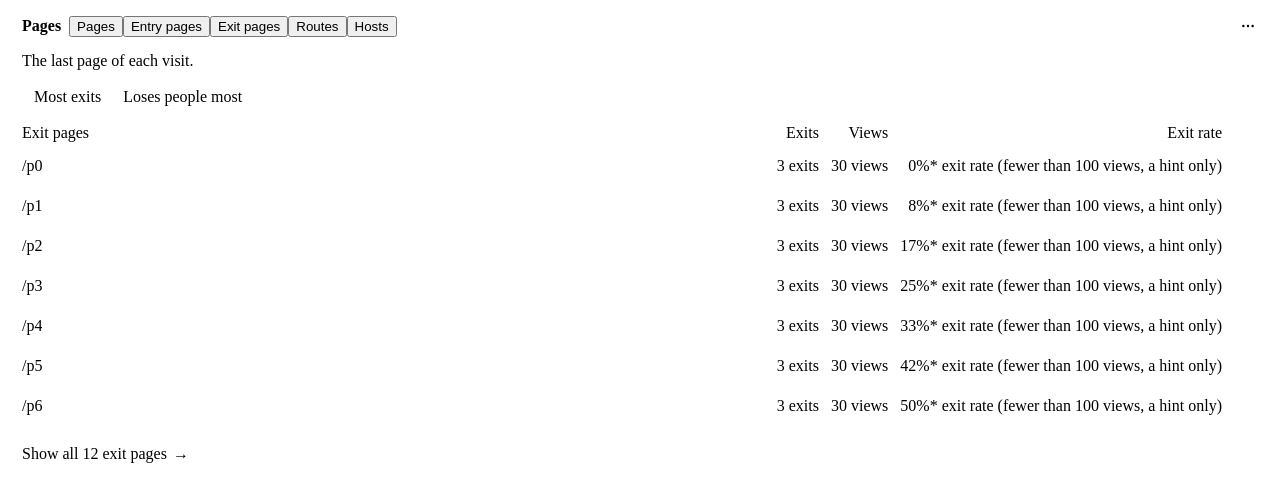
Test case: Panel › keeps all rows when the exit tab sorts by "Loses people most"
The image size is (1271, 487).
Expected: the button "/p0" is shown, [22, 157, 89, 175]
Click the button "Loses people most".
click(183, 97)  # box [113, 84, 252, 110]
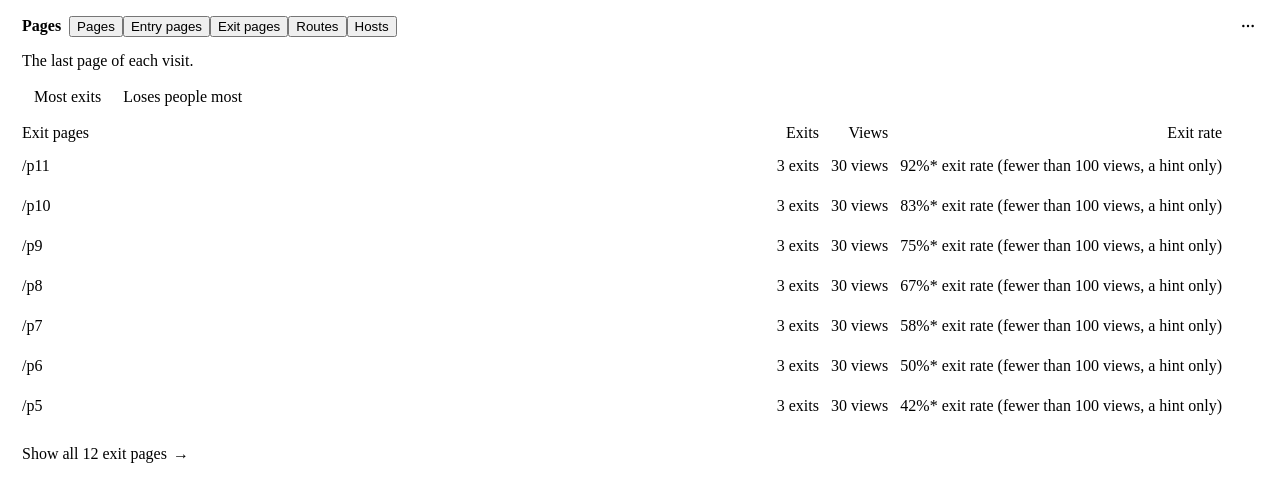
Expected: the button "Show all 12 exit pages →" is shown, [14, 438, 197, 470]
Now the button with class "bl-open" reads "/p11", box [22, 157, 89, 175]
